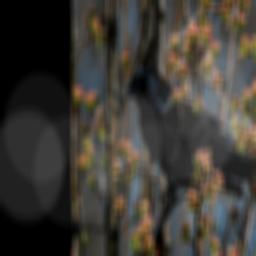Crow: (120, 60, 256, 245)
